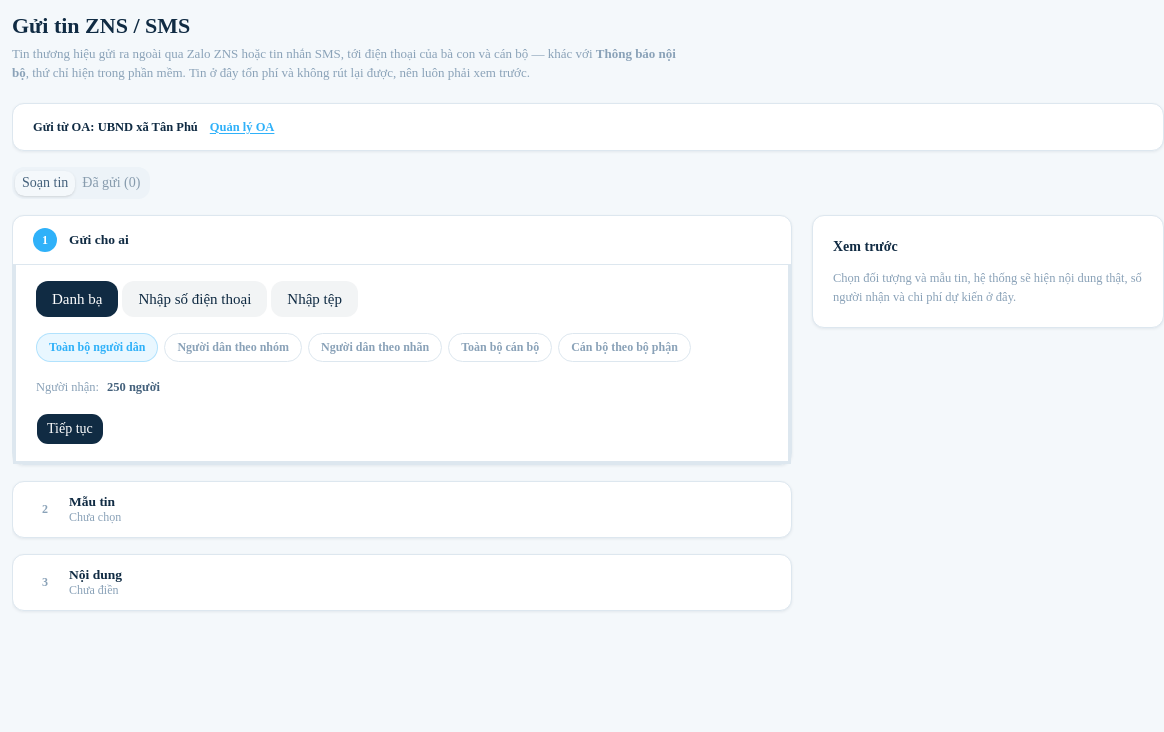
Test case: the step-1 recipient count — real where the client can count it, '?' where it cannot › ONE group: the count route with that group; TWO groups: '?' with the overlap reason
Click the button "Người dân theo nhóm".
click(233, 348)  # box top-left (164, 333), bottom-right (302, 362)
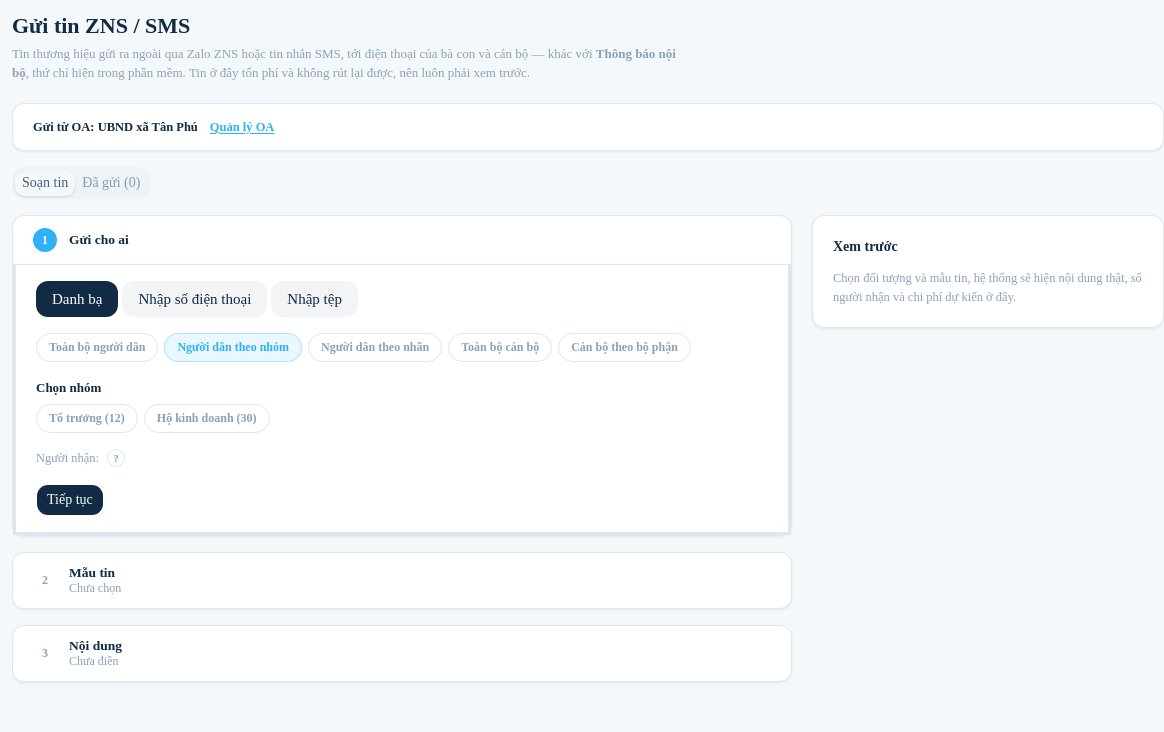
Expected: the button "Tổ trưởng (12)" is shown
Click the button "Tổ trưởng (12)".
click(87, 418)  # box top-left (36, 404), bottom-right (138, 433)
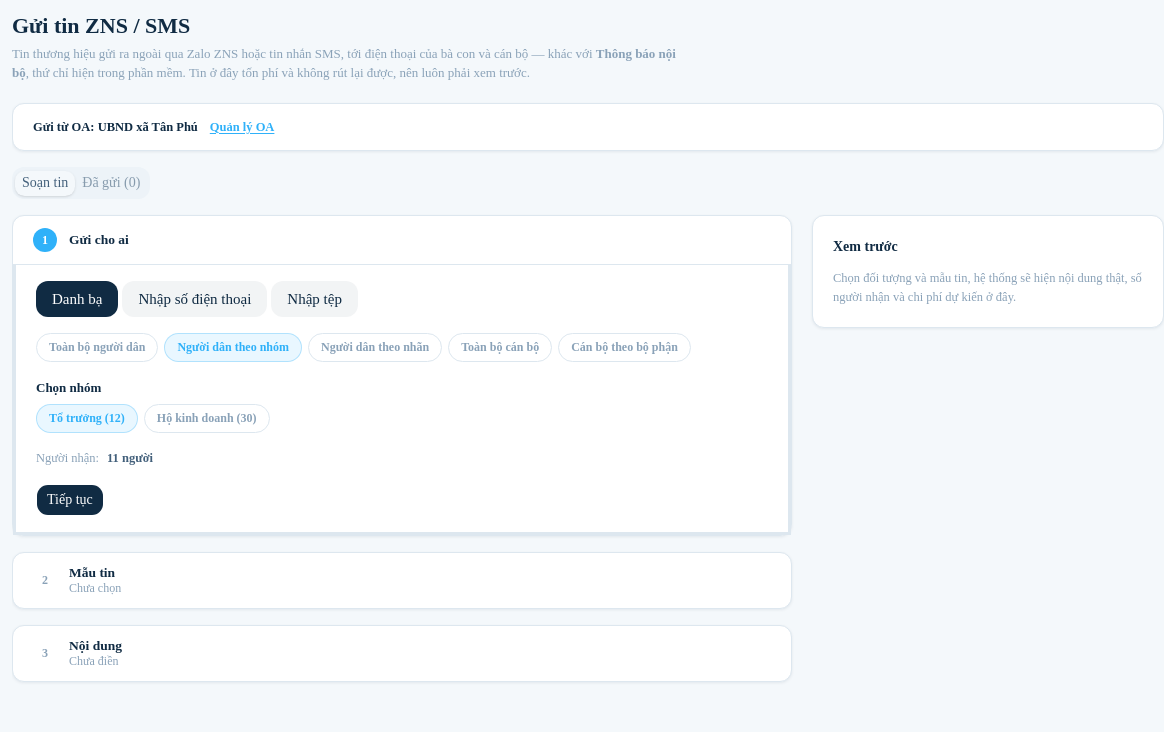
Expected: the button "Hộ kinh doanh (30)" is shown
Expected: the element showing "Người nhận: 11 người" is shown, top-left (36, 451), bottom-right (153, 465)
Click the button "Hộ kinh doanh (30)".
click(207, 418)  # box top-left (144, 404), bottom-right (270, 433)
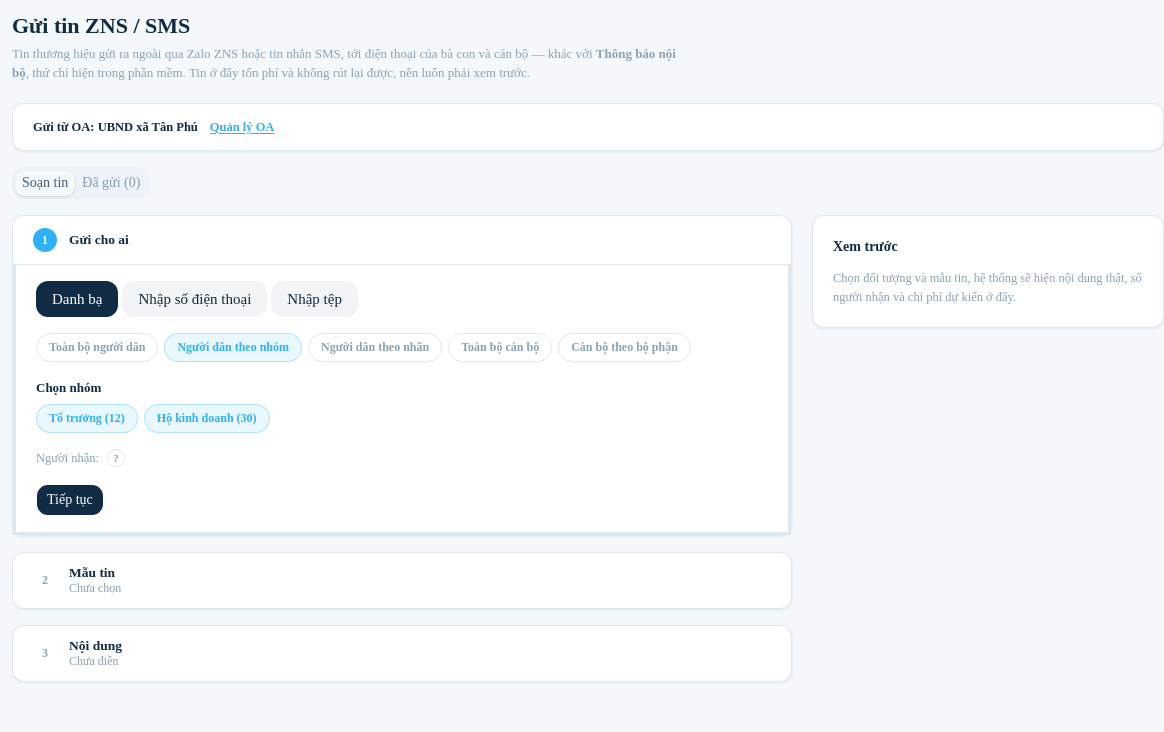
Expected: the text "người" is not shown
Expected: the button "?" is shown, top-left (107, 449), bottom-right (125, 467)
